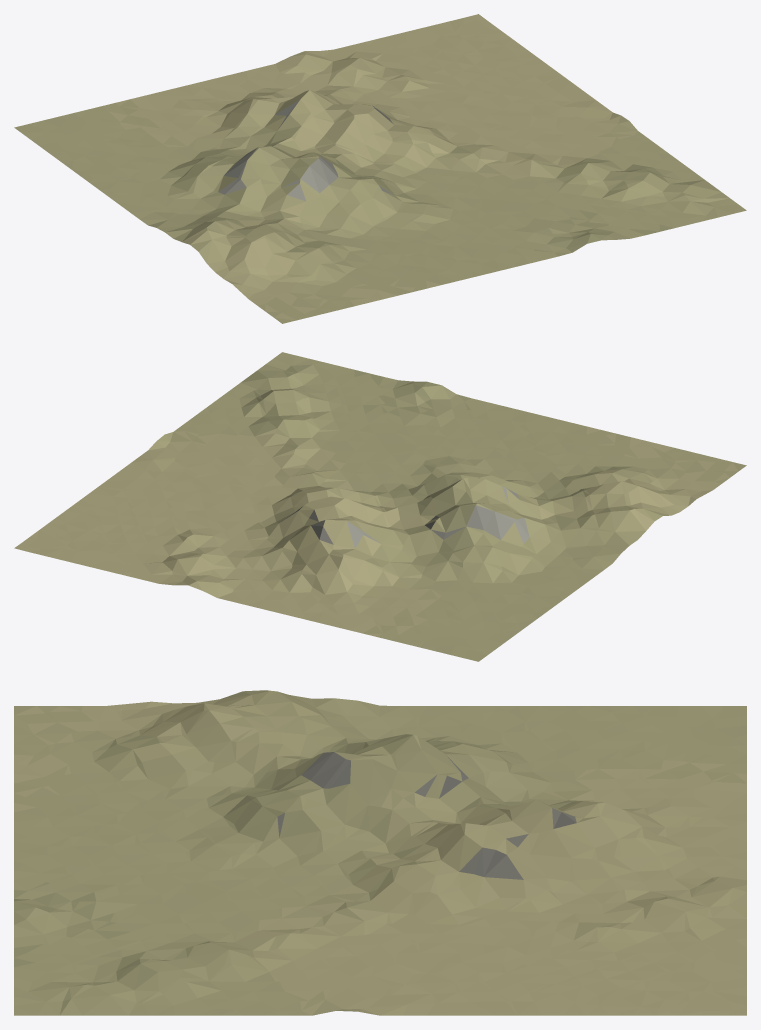
The model's file is Ground_-6_-10.glb.
The picture shows the model from 3 angles, top to bottom: view 1: azimuth 30°, elevation 25°; view 2: azimuth 150°, elevation 25°; view 3: azimuth 270°, elevation 25°; orthographic projection. The views are drawn at different scales.
Visible parts, largest first — view 1: Ground_-6_-10; view 2: Ground_-6_-10; view 3: Ground_-6_-10.
Boxes of the visible parts, box(x1,y1,x2,y2) form: Ground_-6_-10: box(14, 14, 746, 323); Ground_-6_-10: box(14, 352, 746, 661); Ground_-6_-10: box(14, 690, 746, 1015).
Bounding box in the file's own units: 768 × 61.5 × 768.
